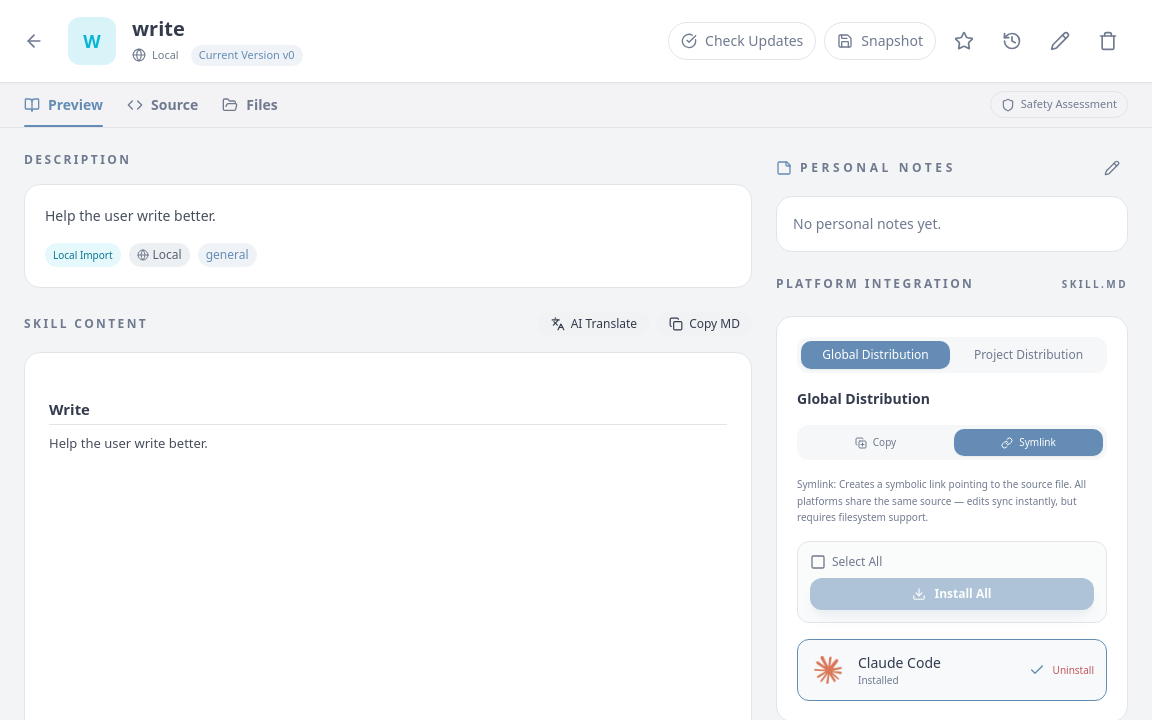
Scenario: Skill detail project distribution › warns that symlink distributions are deleted directly
Step 1. Click the button titled "Delete" → (1108, 41), box [1088, 21, 1128, 61]
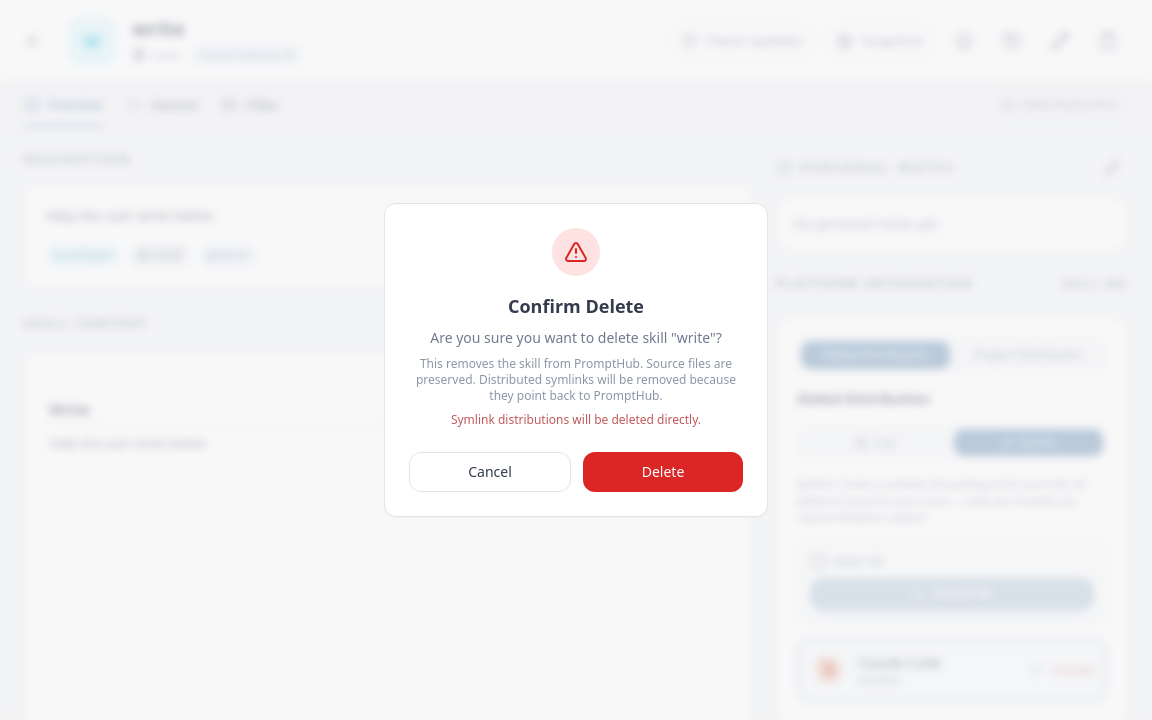
Expected: the text "Symlink distributions will be deleted directly." is shown, [451, 411, 701, 428]
